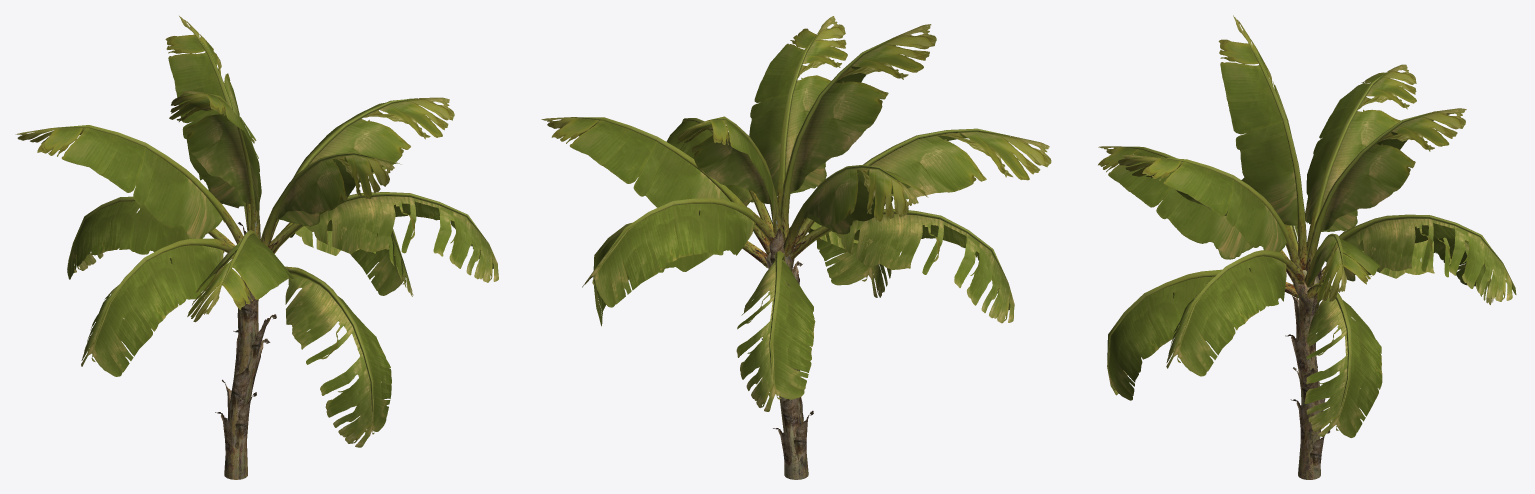
File: Banana Plant.fbx
3 views of the same model, side by side, from view 1: azimuth 30°, elevation 25°; view 2: azimuth 150°, elevation 25°; view 3: azimuth 270°, elevation 25° (orthographic). The views are drawn at different scales.
Parts seen in each view (by area): view 1: Tree_1, Tree_2, Tree_4, Tree_3, Tree_0; view 2: Tree_1, Tree_2, Tree_4, Tree_3, Tree_0; view 3: Tree_1, Tree_2, Tree_4, Tree_0, Tree_3.
Part boxes in pixels (x1=…): Tree_1: x1=15, y1=16, x2=454, y2=322; Tree_2: x1=67, y1=117, x2=498, y2=447; Tree_4: x1=54, y1=33, x2=488, y2=414; Tree_3: x1=215, y1=222, x2=276, y2=458; Tree_0: x1=224, y1=277, x2=258, y2=479; Tree_1: x1=541, y1=16, x2=1051, y2=234; Tree_2: x1=582, y1=121, x2=1014, y2=411; Tree_4: x1=572, y1=33, x2=1011, y2=376; Tree_3: x1=755, y1=228, x2=813, y2=468; Tree_0: x1=767, y1=251, x2=808, y2=479; Tree_1: x1=1098, y1=15, x2=1466, y2=301; Tree_2: x1=1107, y1=177, x2=1516, y2=437; Tree_4: x1=1107, y1=42, x2=1501, y2=407; Tree_0: x1=1293, y1=270, x2=1320, y2=479; Tree_3: x1=1285, y1=247, x2=1330, y2=470.
Size of the model in its own units: 289 by 289 by 274.
5 materials, 5 textured.
